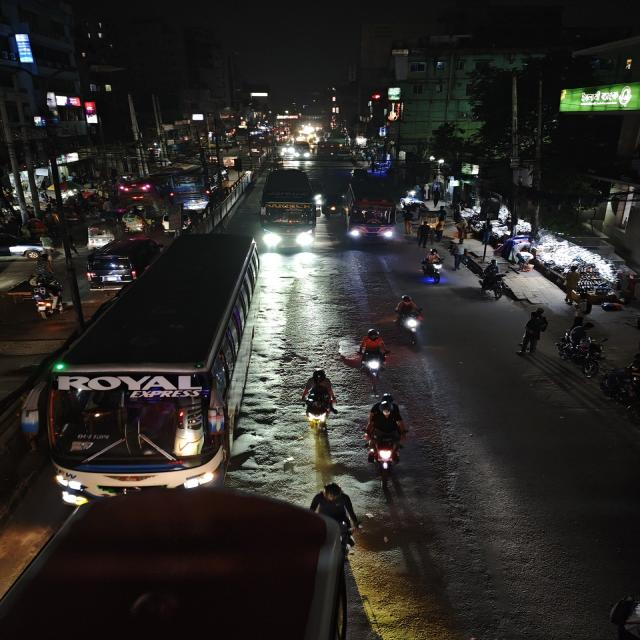bus: (41, 235, 256, 503), (257, 166, 320, 252), (341, 178, 401, 248), (167, 163, 230, 210)
car: (82, 236, 142, 288), (0, 227, 42, 265)
cng: (83, 222, 115, 247), (322, 190, 341, 218)
motorcycle: (358, 390, 413, 486), (289, 362, 346, 440), (554, 320, 607, 378), (352, 328, 394, 384), (597, 368, 640, 421), (18, 275, 67, 319), (391, 293, 430, 347), (476, 260, 513, 302), (419, 247, 446, 285)
pedestrian: (515, 309, 549, 357), (448, 238, 468, 271), (416, 222, 432, 248)
rickshaw: (120, 202, 154, 234)
